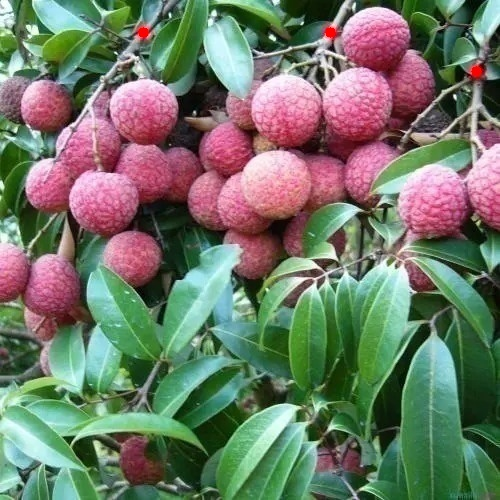litchi: (202, 31, 405, 276), (1, 70, 166, 308), (361, 136, 499, 283)
stem: (108, 0, 175, 67), (308, 1, 352, 63), (466, 36, 485, 118)
